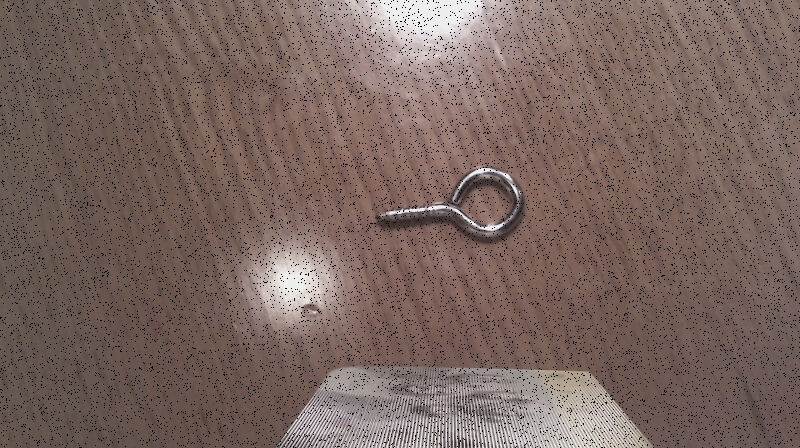O001: (370, 163, 529, 247)
